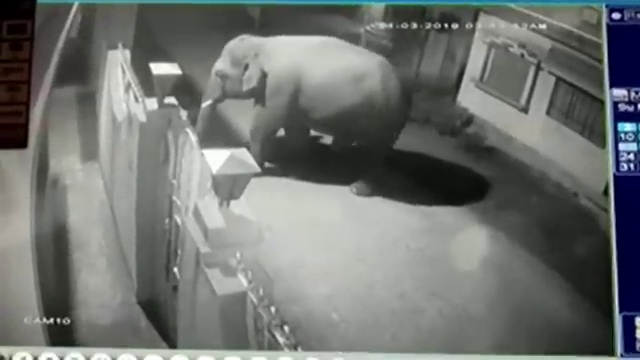Elephant: (196, 35, 411, 198)
